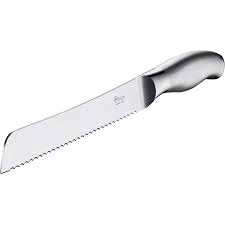knife: (1, 49, 223, 173)
